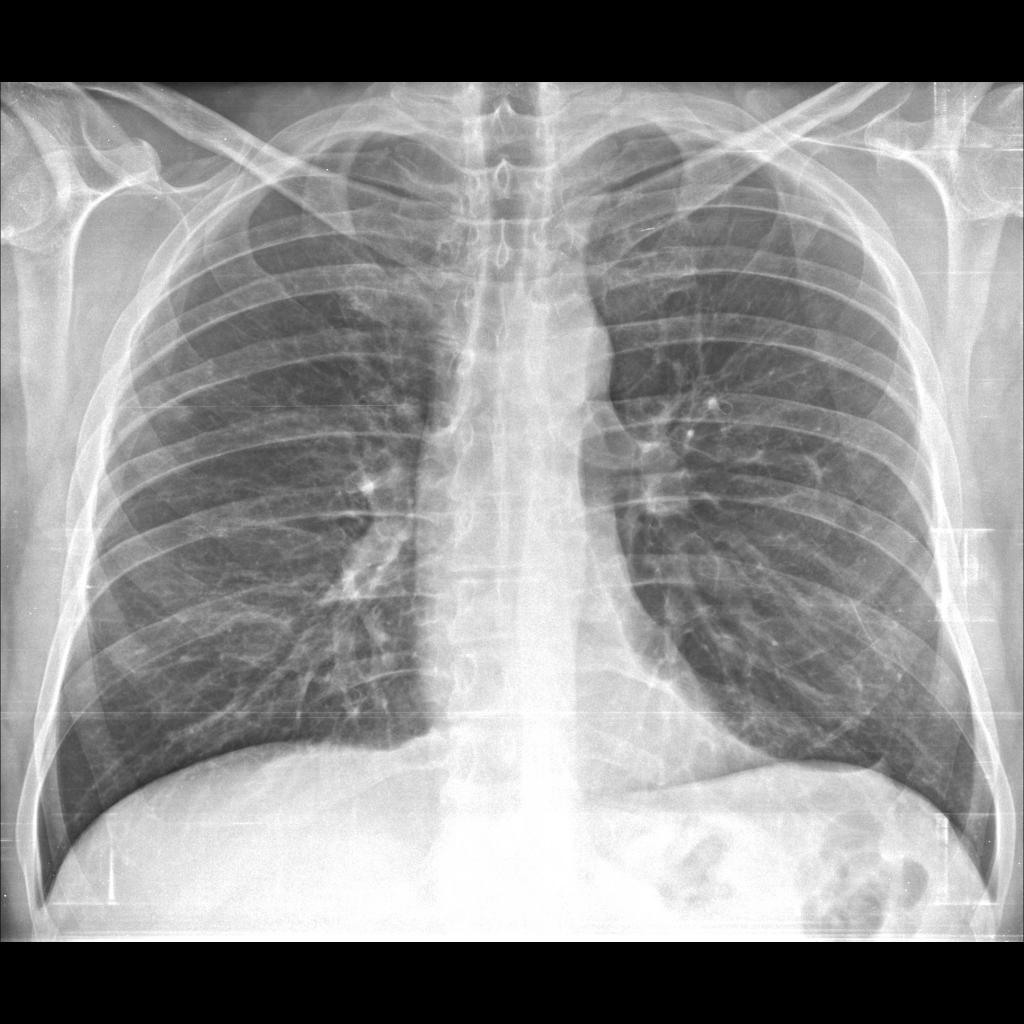Nodule: (166, 400, 194, 435)
